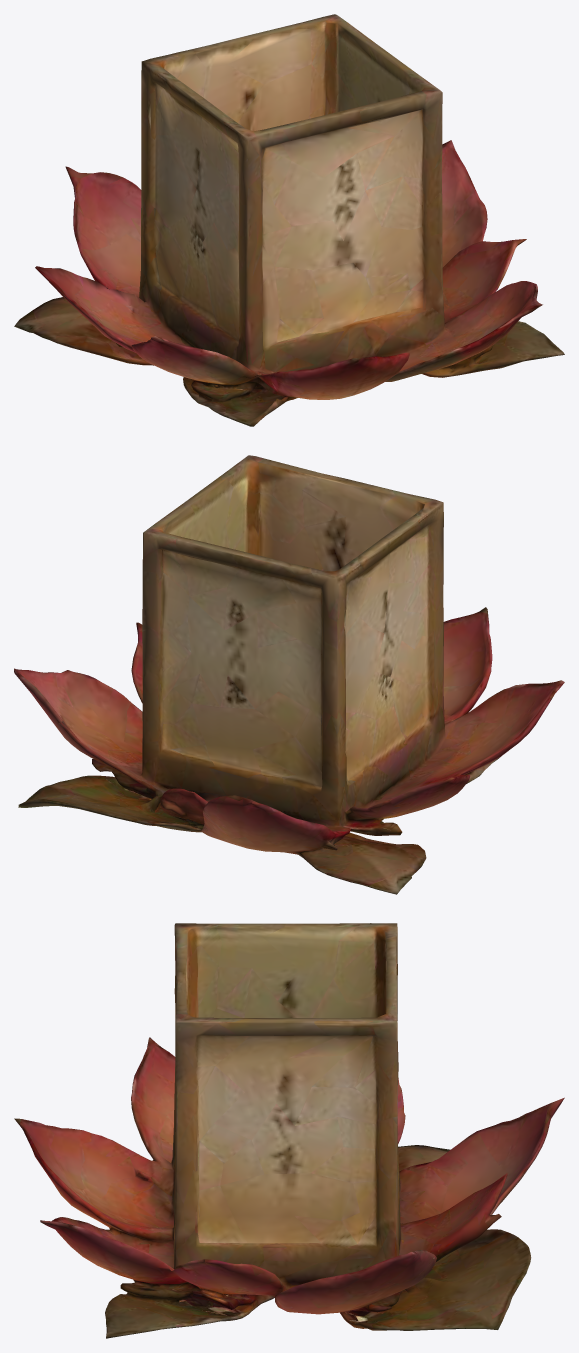
The model's file is lotus-lamp.glb.
3 renders of one model, top to bottom at view 1: azimuth 30°, elevation 25°; view 2: azimuth 150°, elevation 25°; view 3: azimuth 270°, elevation 25°, orthographic. The views are drawn at different scales.
Size of the model in its own units: 1.58 by 1.03 by 1.68.
1 material, 1 textured.
